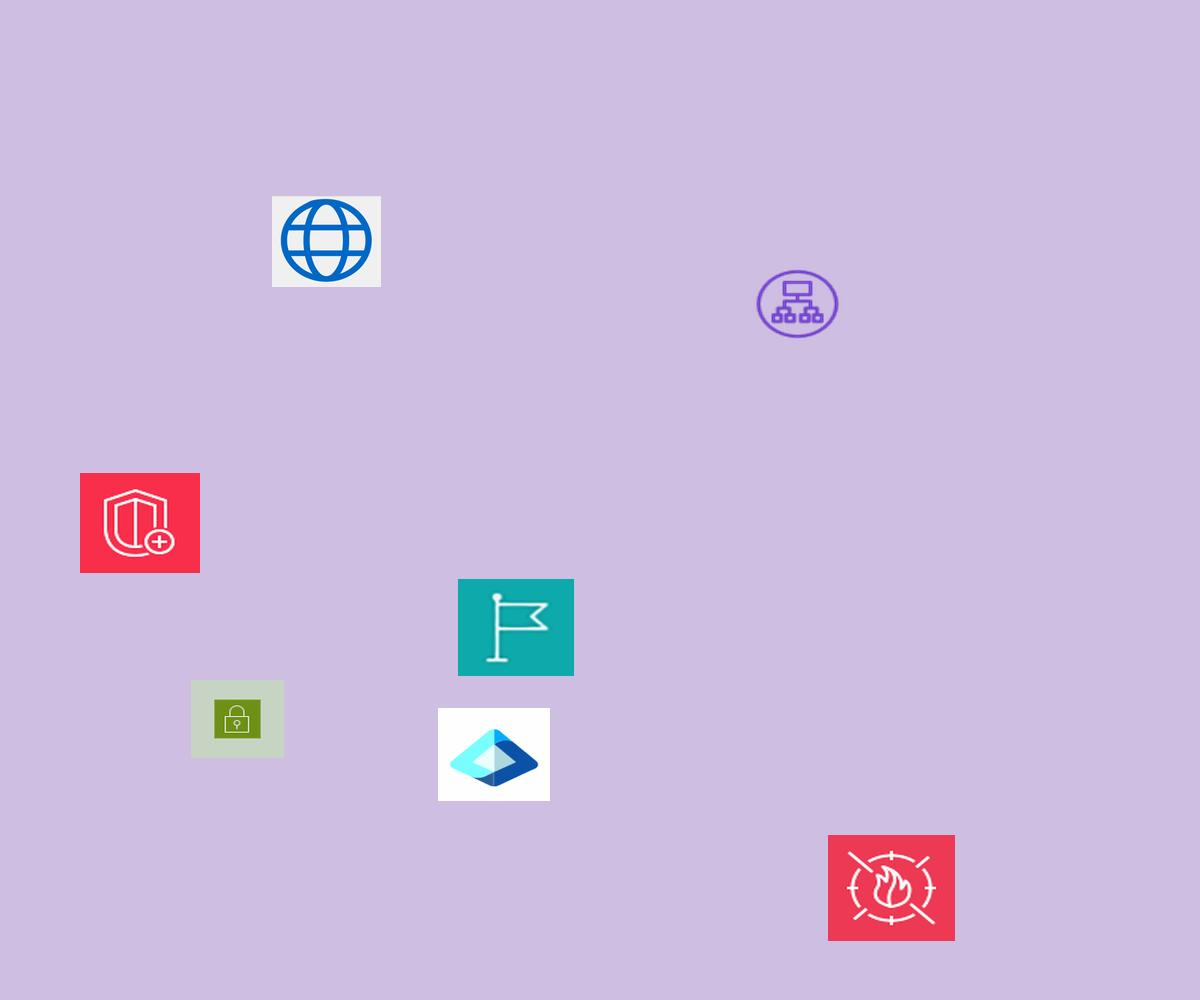AWS-Public-subnet: (191, 680, 284, 758)
AWS-Region: (458, 579, 574, 676)
AWS-Res_Elastic-Load-Balancing_Application-Load-Balancer: (753, 267, 842, 341)
AWS-Shield: (80, 473, 200, 573)
AWS-WAF: (828, 835, 955, 941)
Azure_http: (272, 196, 381, 287)
Azure_microsoft_entra: (438, 708, 550, 801)
